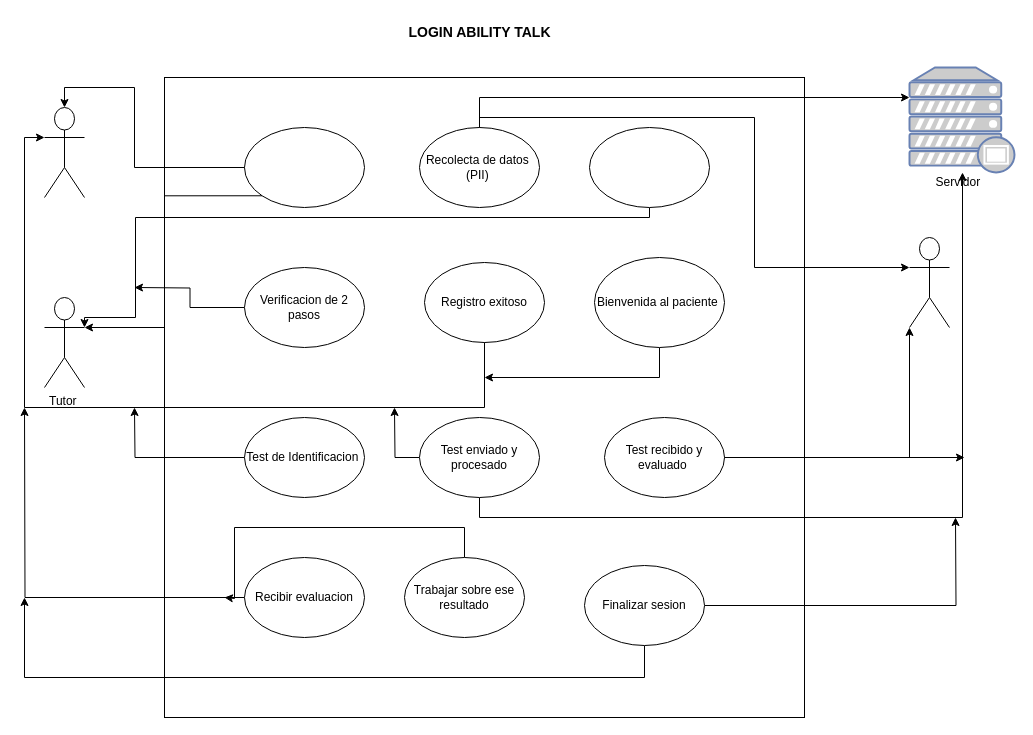
This 1033x735 diagram has some shape labels left out. Each missing label, with the box of its shape:
Especialista: (908, 236, 950, 328)
Registrar usuario: (244, 126, 364, 208)
Usuario (Paciente): (44, 106, 84, 198)
Verificar correo: (588, 126, 710, 208)
